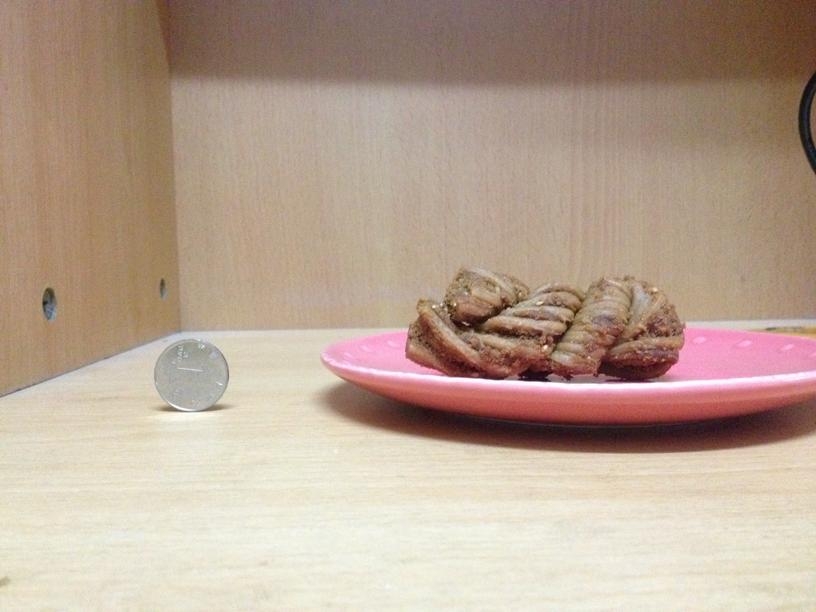coin: (156, 342, 227, 410)
fired_dough_twist: (400, 269, 683, 378)
